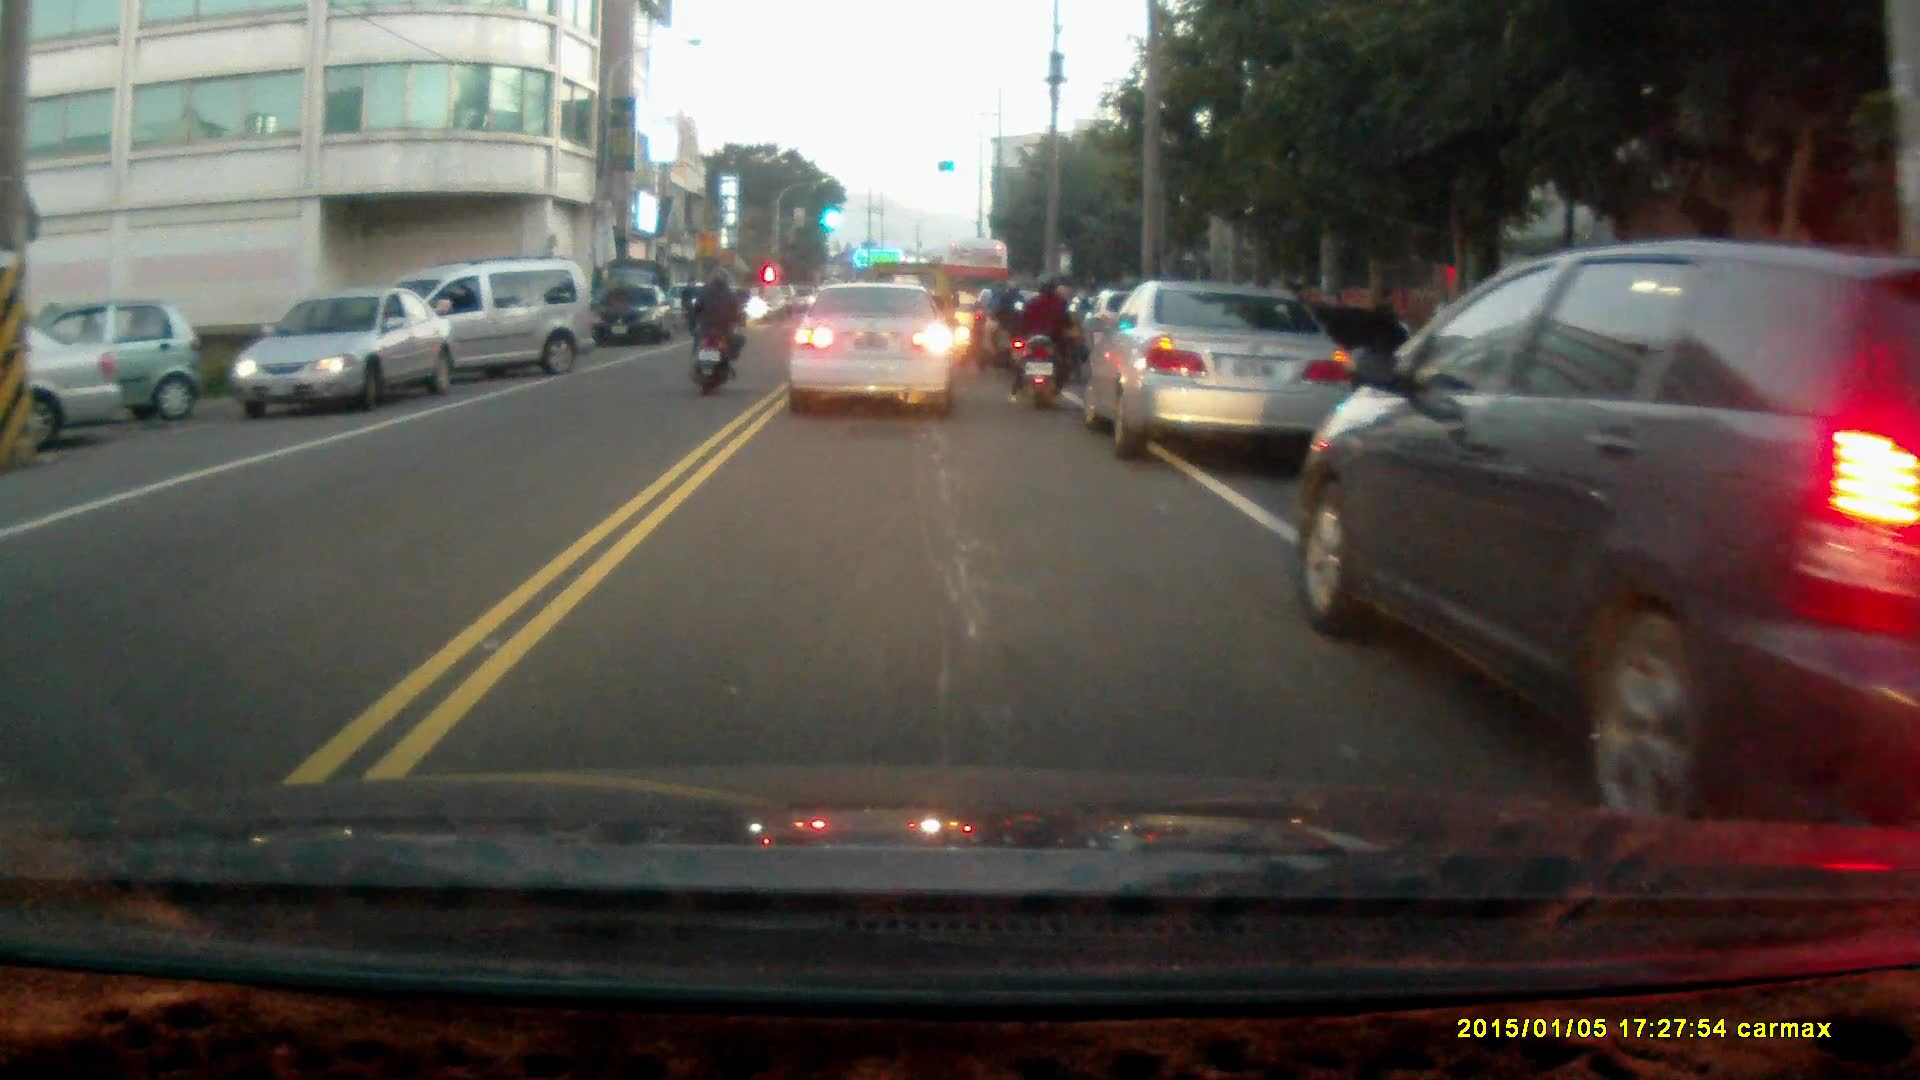rider: (1007, 269, 1080, 412), (686, 271, 745, 393), (970, 273, 1024, 377)
vehicle: (1289, 234, 1920, 819), (1076, 276, 1354, 459), (338, 258, 592, 397), (230, 290, 454, 418), (1, 296, 211, 426), (790, 285, 959, 415), (1, 323, 122, 455), (585, 284, 672, 349)
